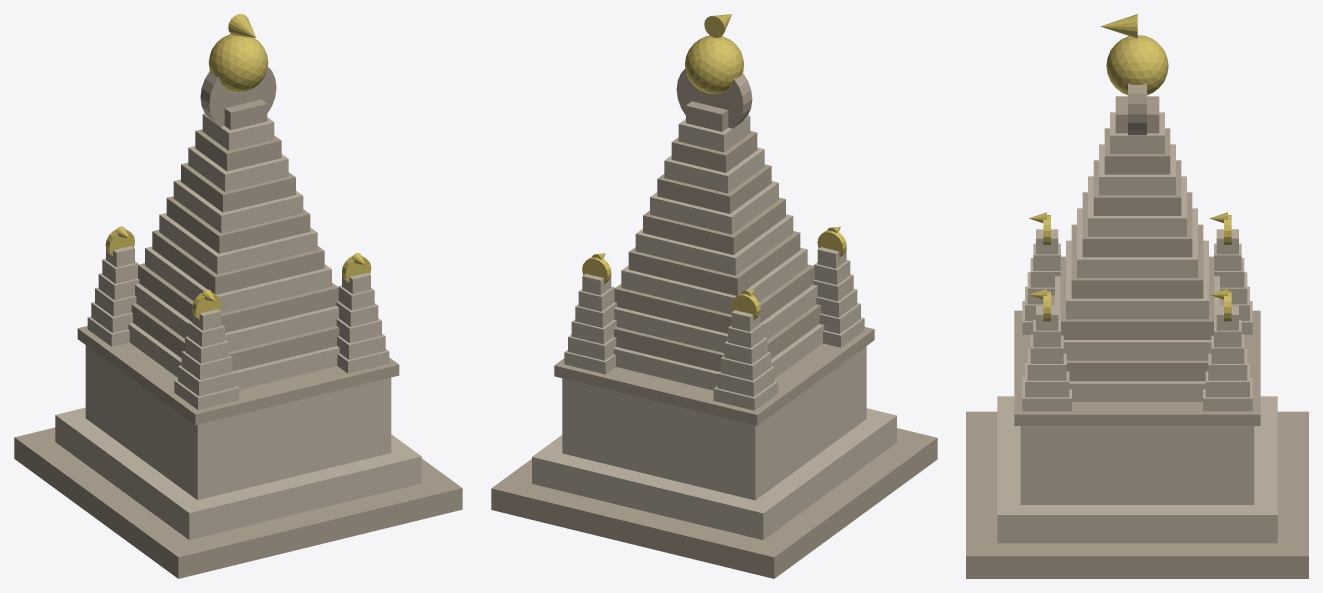
File: mahabodhi-temple.glb
3 renders of one model, left to right at view 1: azimuth 30°, elevation 25°; view 2: azimuth 150°, elevation 25°; view 3: azimuth 270°, elevation 25°, orthographic. The views are drawn at different scales.
Visible parts, largest first — view 1: geometry_2, geometry_0, geometry_1, geometry_3, geometry_9, geometry_7, geometry_8, geometry_6, geometry_10, geometry_5, geometry_4, geometry_11 (+23 smaller); view 2: geometry_2, geometry_0, geometry_1, geometry_3, geometry_9, geometry_7, geometry_8, geometry_6, geometry_10, geometry_5, geometry_4, geometry_11 (+23 smaller); view 3: geometry_0, geometry_2, geometry_1, geometry_3, geometry_7, geometry_8, geometry_6, geometry_9, geometry_5, geometry_10, geometry_11, geometry_19 (+27 smaller).
Part boxes in pixels (x1=…): geometry_2: x1=85, y1=345, x2=391, y2=500; geometry_0: x1=14, y1=427, x2=462, y2=578; geometry_1: x1=55, y1=407, x2=421, y2=539; geometry_3: x1=77, y1=326, x2=399, y2=425; geometry_9: x1=152, y1=230, x2=324, y2=294; geometry_7: x1=138, y1=263, x2=338, y2=332; geometry_8: x1=145, y1=246, x2=331, y2=313; geometry_6: x1=135, y1=283, x2=338, y2=351; geometry_10: x1=159, y1=213, x2=317, y2=274; geometry_5: x1=131, y1=303, x2=339, y2=370; geometry_4: x1=128, y1=323, x2=339, y2=389; geometry_11: x1=166, y1=196, x2=310, y2=253; geometry_2: x1=562, y1=346, x2=866, y2=500; geometry_0: x1=491, y1=428, x2=937, y2=578; geometry_1: x1=532, y1=408, x2=896, y2=540; geometry_3: x1=554, y1=327, x2=874, y2=425; geometry_9: x1=628, y1=231, x2=800, y2=295; geometry_7: x1=614, y1=264, x2=814, y2=333; geometry_8: x1=621, y1=247, x2=807, y2=314; geometry_6: x1=614, y1=284, x2=817, y2=352; geometry_10: x1=635, y1=214, x2=793, y2=275; geometry_5: x1=614, y1=304, x2=820, y2=371; geometry_4: x1=613, y1=324, x2=824, y2=390; geometry_11: x1=643, y1=197, x2=785, y2=254; geometry_0: x1=966, y1=411, x2=1308, y2=578; geometry_2: x1=1020, y1=426, x2=1254, y2=504; geometry_1: x1=997, y1=396, x2=1277, y2=543; geometry_3: x1=1014, y1=310, x2=1260, y2=425; geometry_7: x1=1060, y1=256, x2=1214, y2=339; geometry_8: x1=1066, y1=240, x2=1208, y2=319; geometry_6: x1=1055, y1=276, x2=1219, y2=360; geometry_9: x1=1071, y1=224, x2=1203, y2=298; geometry_5: x1=1051, y1=295, x2=1223, y2=381; geometry_10: x1=1077, y1=208, x2=1197, y2=277; geometry_11: x1=1082, y1=192, x2=1192, y2=257; geometry_19: x1=1106, y1=35, x2=1168, y2=95.
Size of the model in its own units: 22 by 34.8 by 22.
